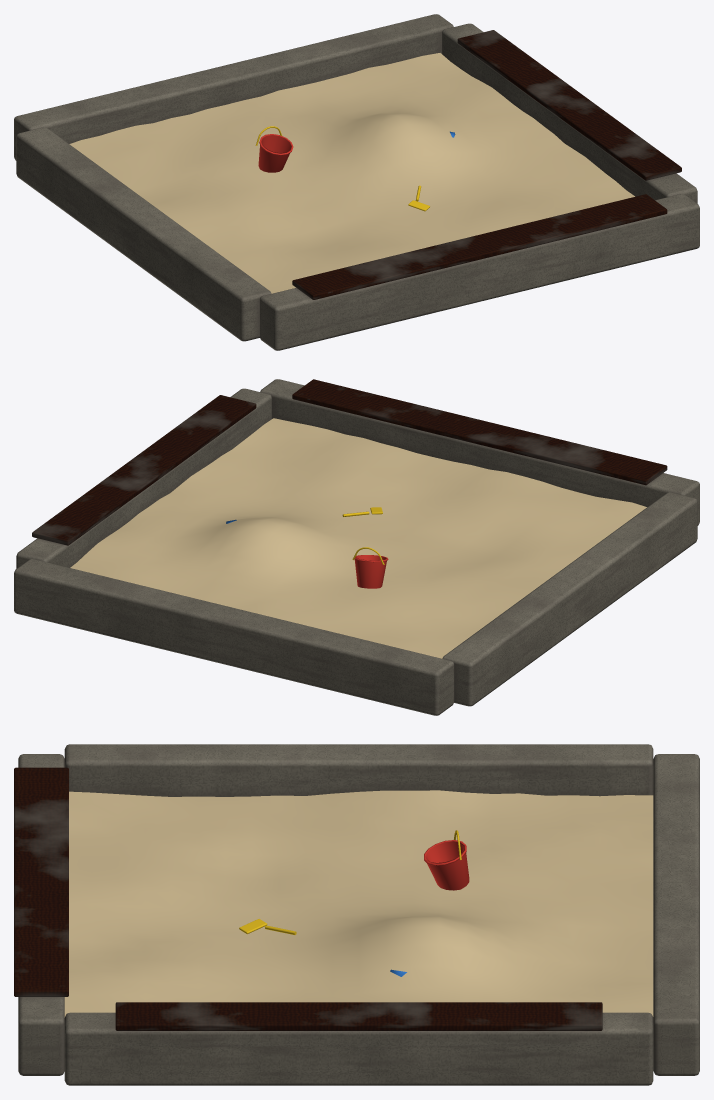
The model's file is plac_piaskownica.glb.
The picture shows the model from 3 angles, top to bottom: view 1: azimuth 30°, elevation 25°; view 2: azimuth 150°, elevation 25°; view 3: azimuth 270°, elevation 25°; orthographic projection. The views are drawn at different scales.
Visible parts, largest first — view 1: Obrzeze, Piasek, Zabawki; view 2: Obrzeze, Piasek, Zabawki; view 3: Piasek, Obrzeze, Zabawki.
Boxes of the visible parts, left/top/right/bottom form: Obrzeze: left=14, top=14, right=699, bottom=350; Piasek: left=69, top=53, right=634, bottom=293; Zabawki: left=255, top=126, right=455, bottom=211; Obrzeze: left=14, top=379, right=699, bottom=715; Piasek: left=70, top=418, right=646, bottom=658; Zabawki: left=226, top=507, right=388, bottom=588; Piasek: left=64, top=790, right=653, bottom=1017; Obrzeze: left=14, top=744, right=699, bottom=1085; Zabawki: left=239, top=830, right=469, bottom=976.
Size of the model in its own units: 3.24 by 0.4186 by 3.24.
Materials: 5 (1 with a texture image).
